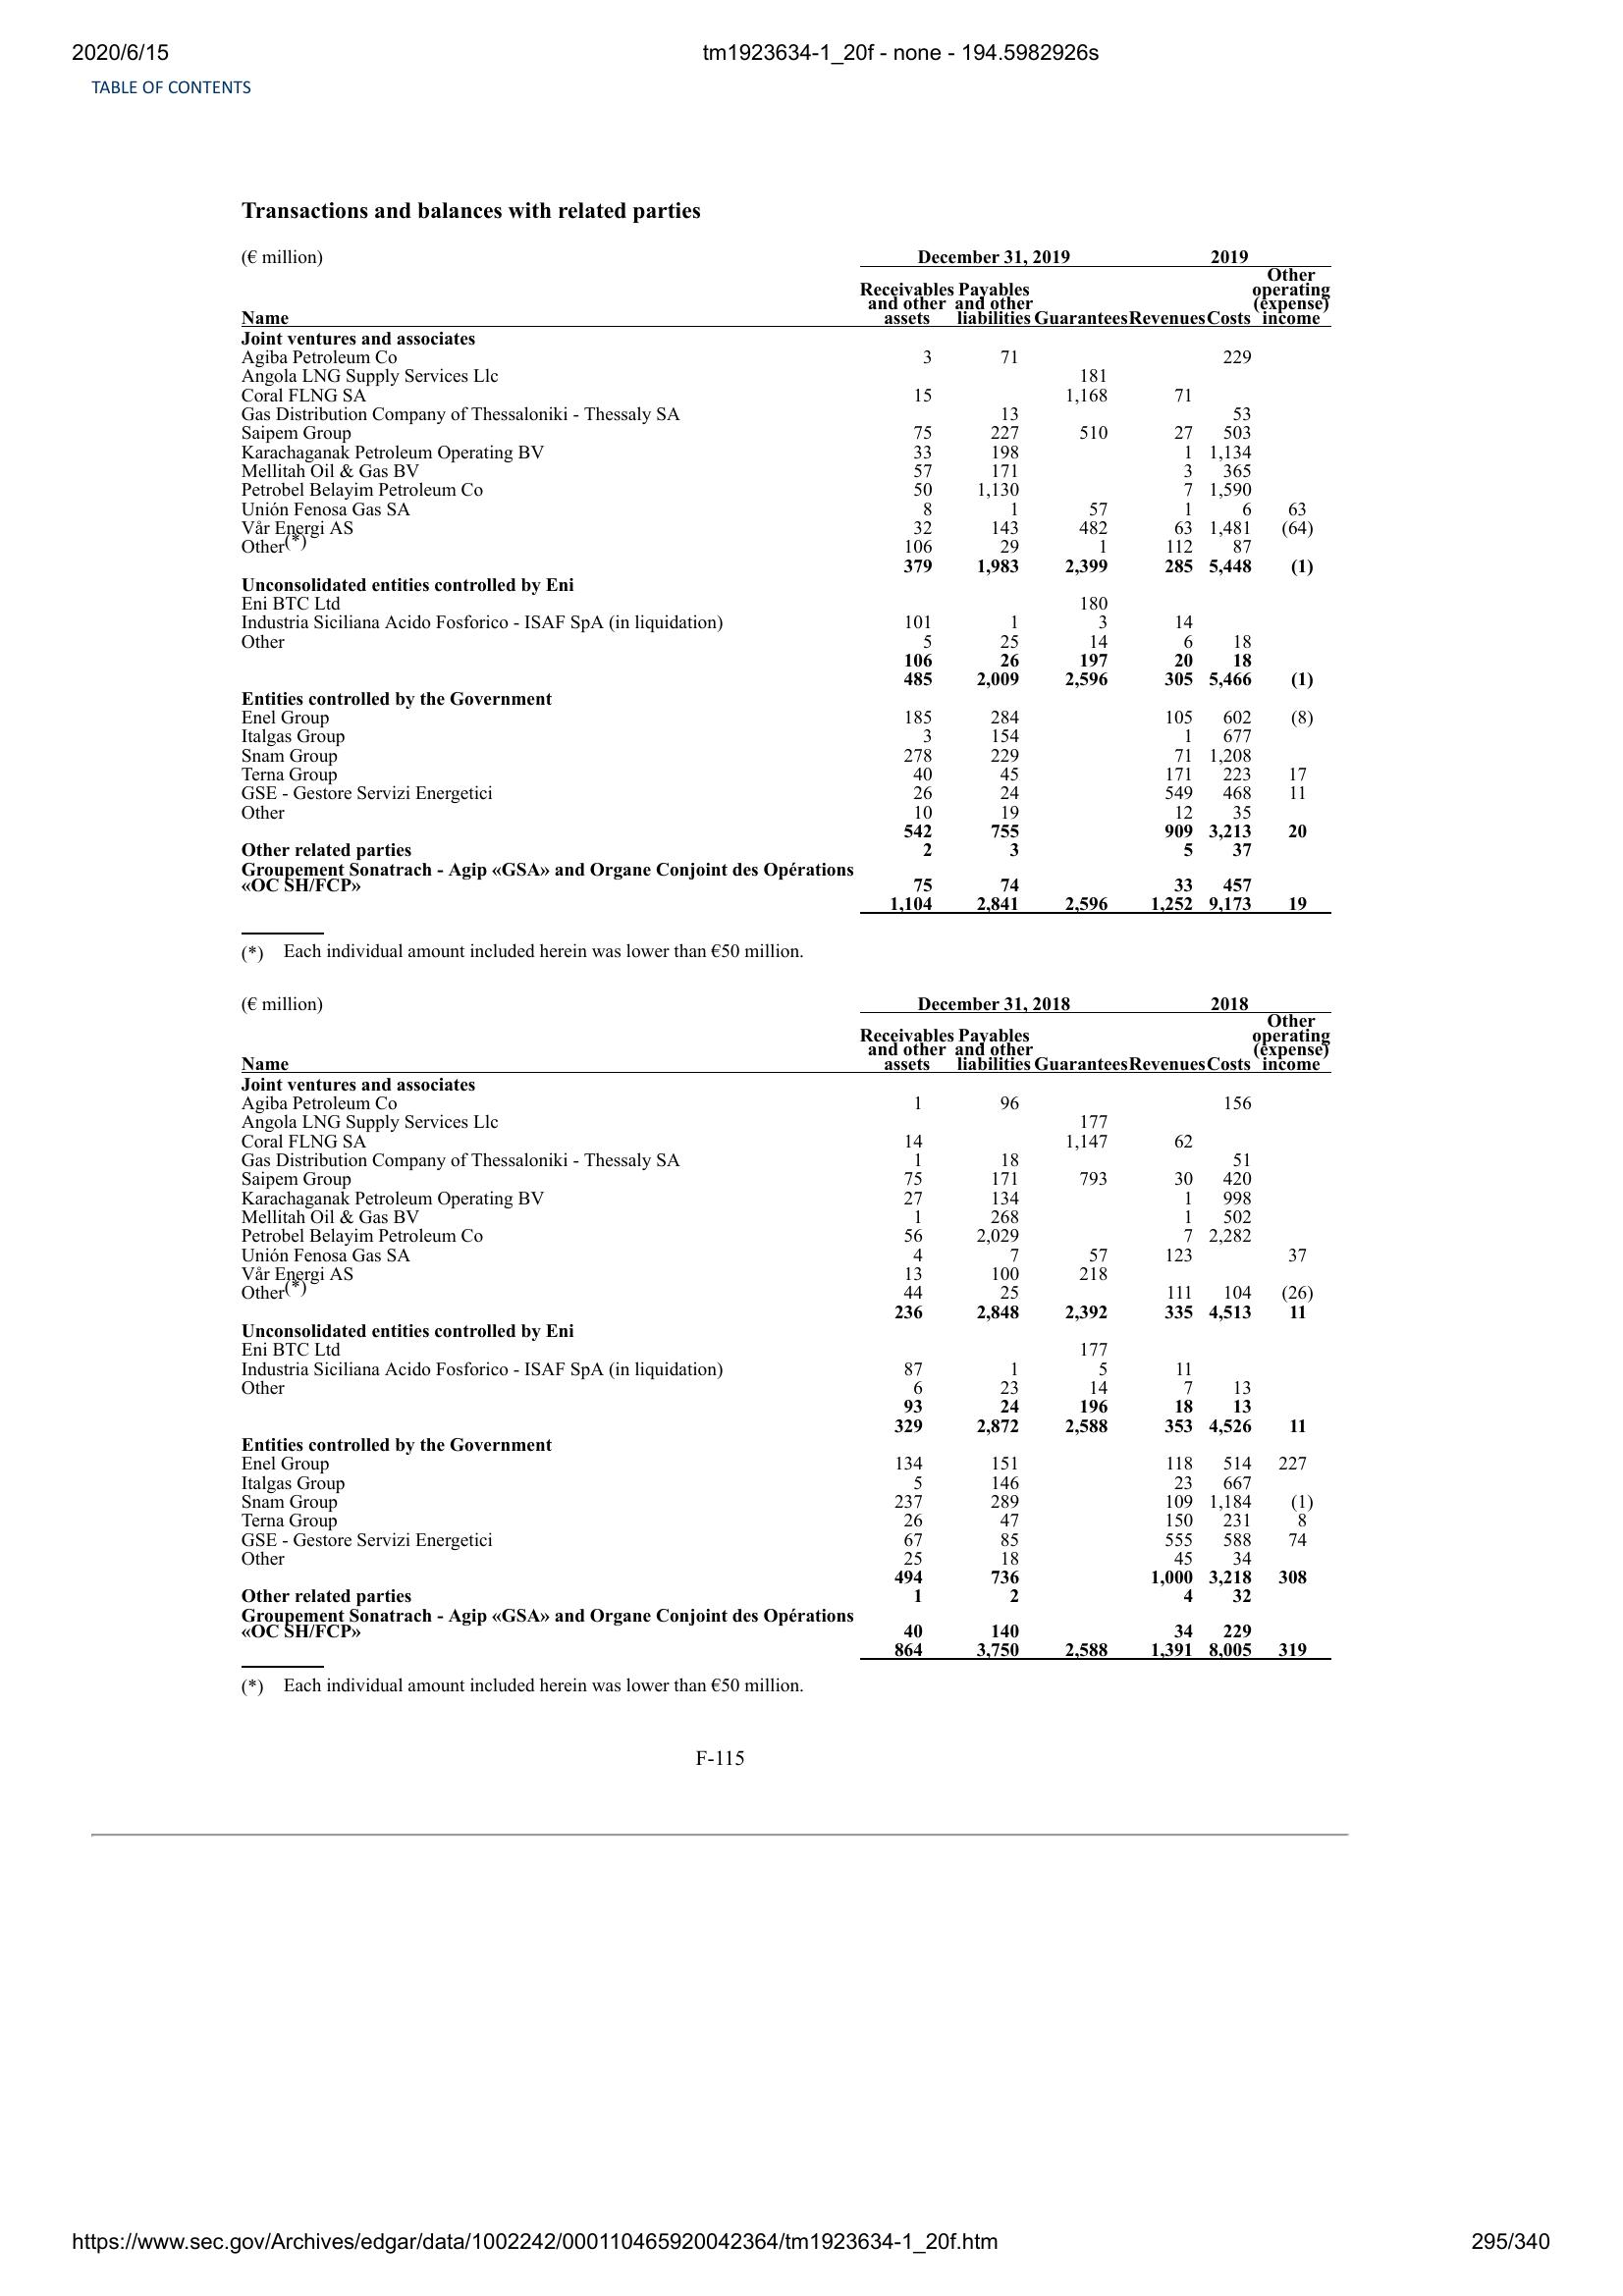table: (235, 981, 1335, 1668), (235, 246, 1342, 923)
